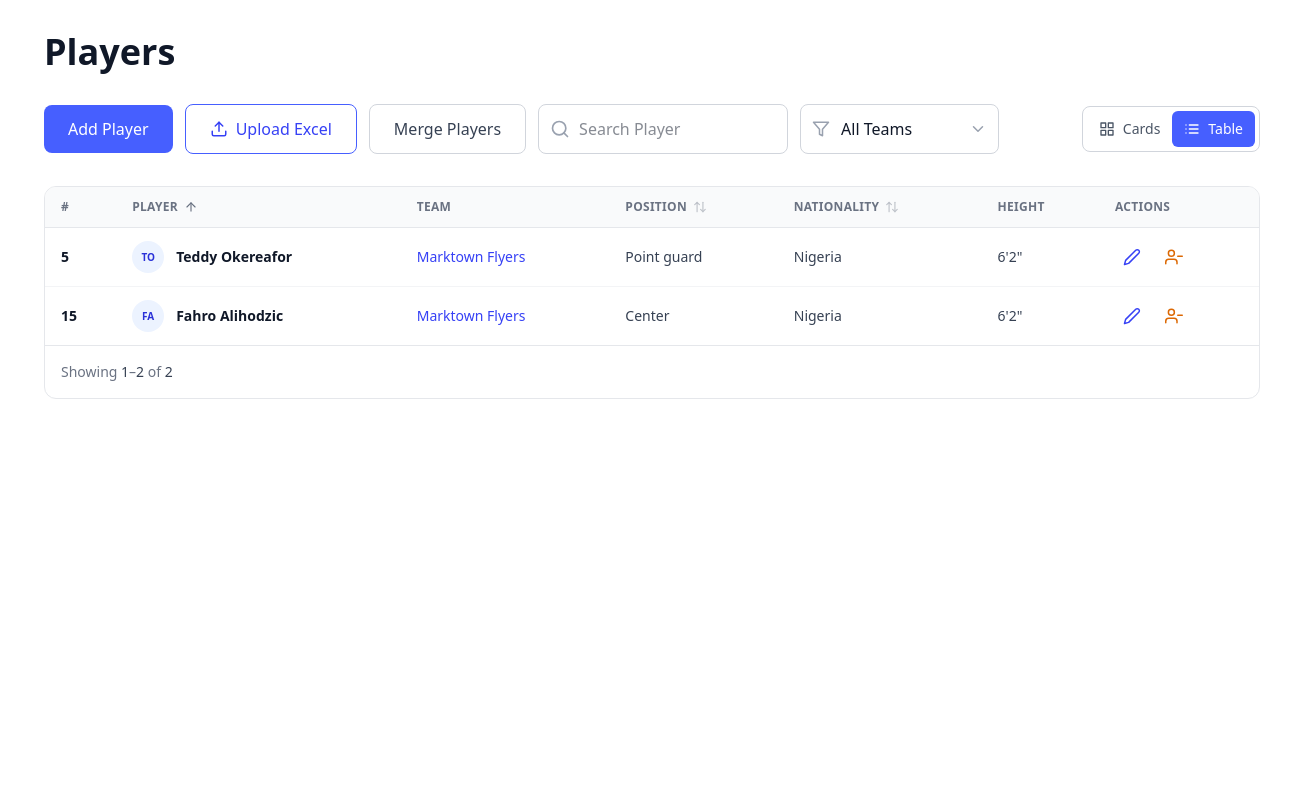
Players: search, filter and sort go through the URL › filters by team
This screenshot has width=1292, height=800.
Select "Riverside Kings" in the dropdown named "Filter by team" at [900, 129], box [800, 104, 999, 154]
(page scrolled)
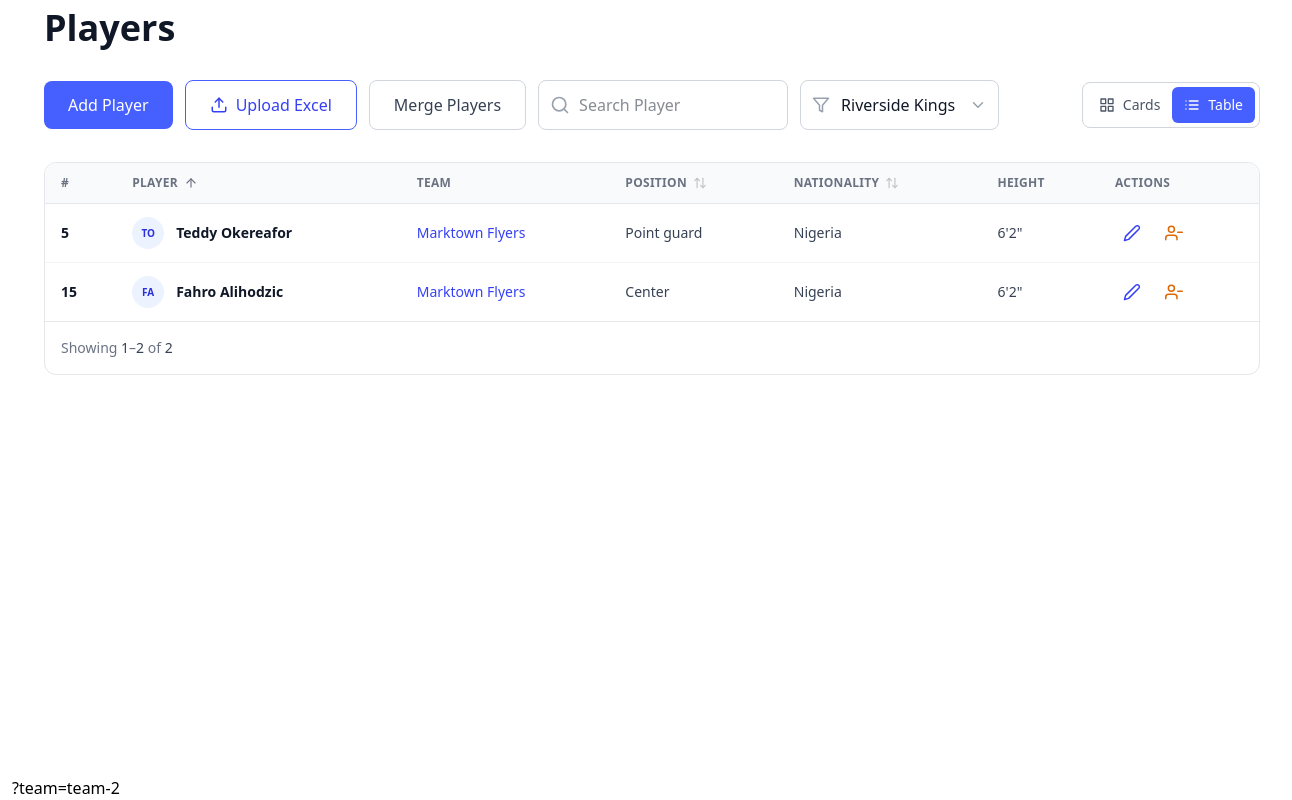
Expected: the text with test id "where" shows "team=team-2", [12, 777, 120, 799]
